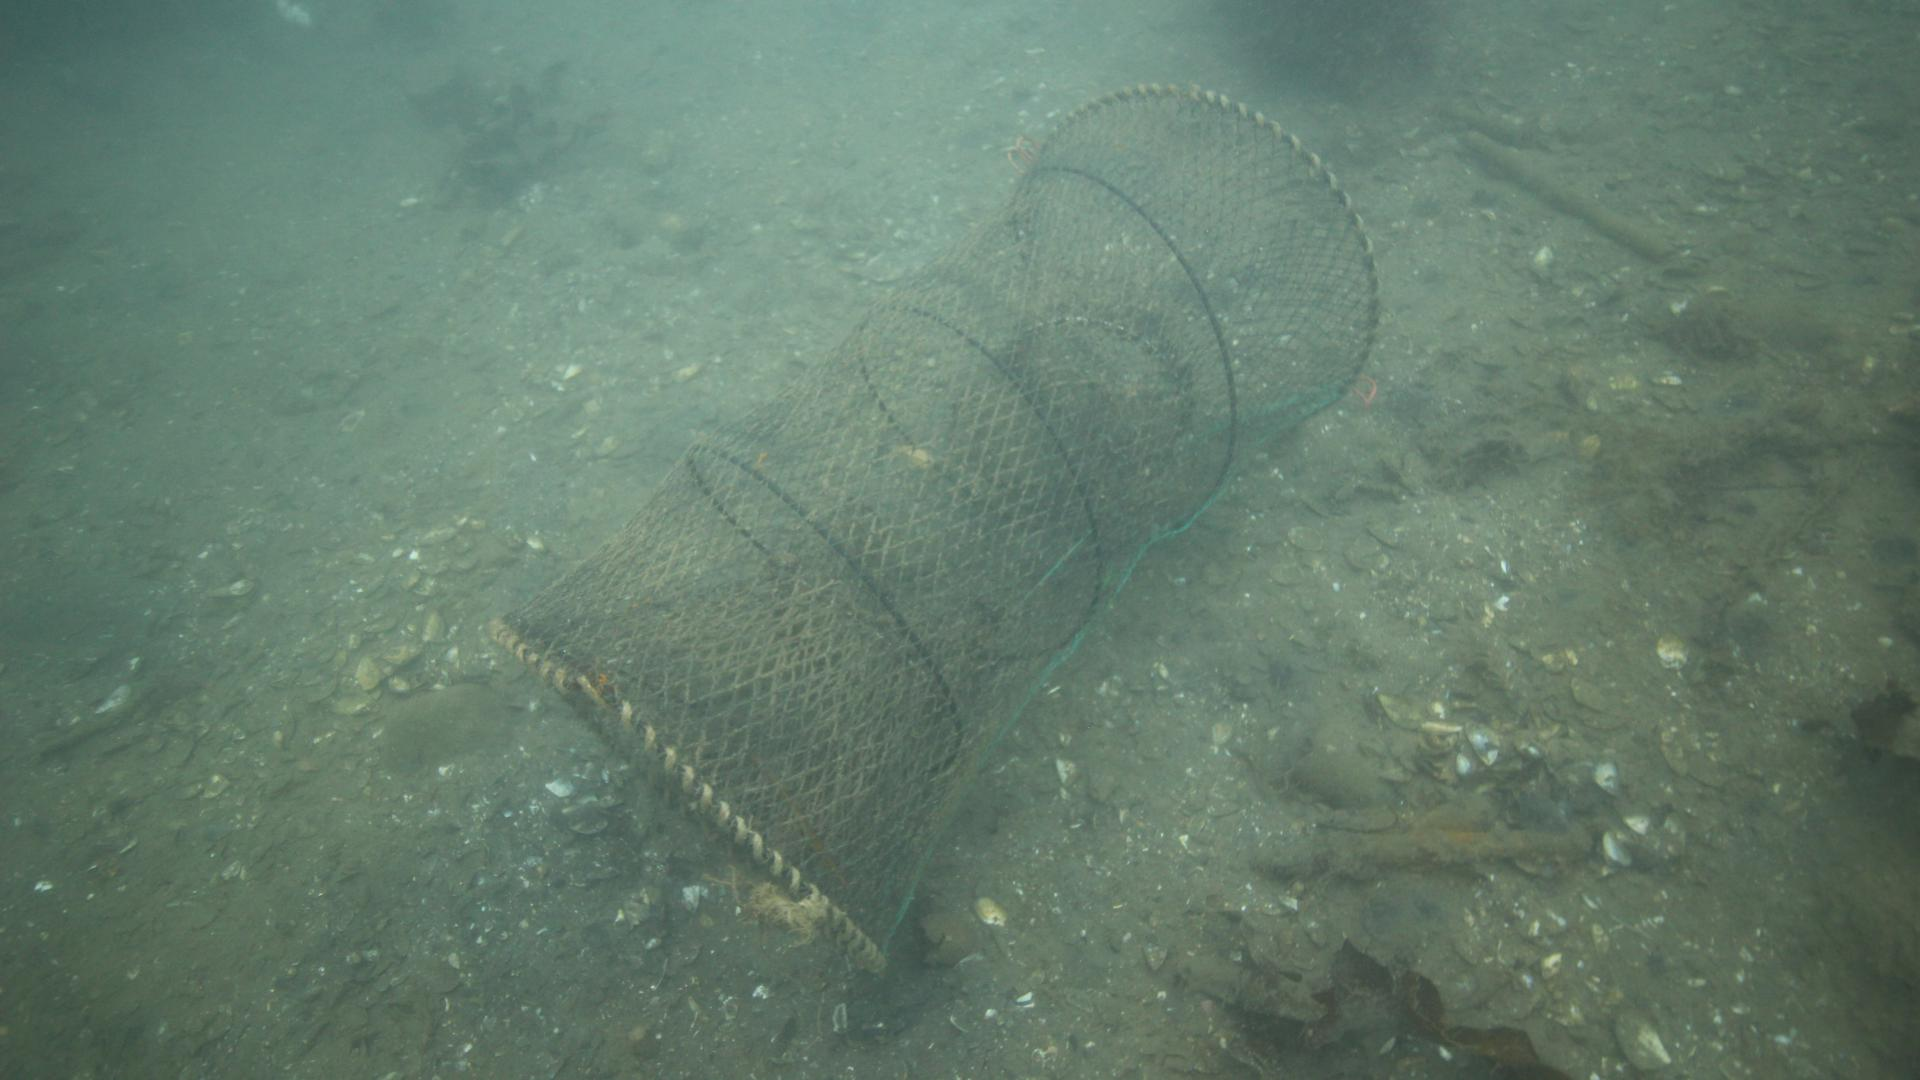spring fish trap: (485, 75, 1378, 980)
